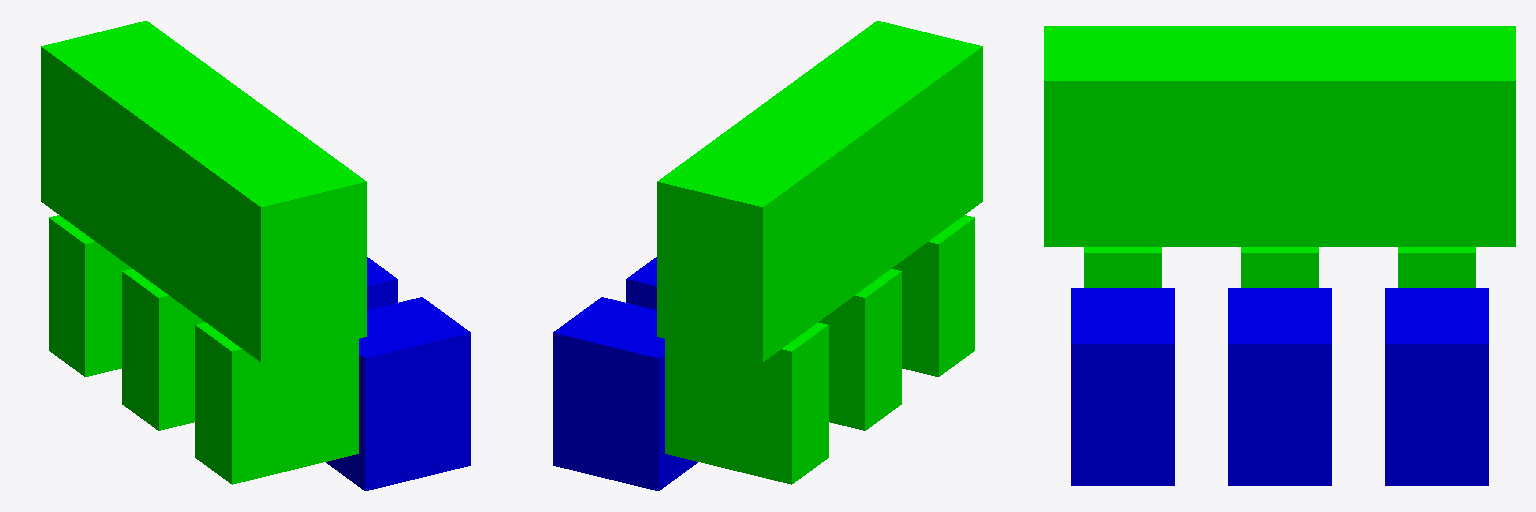
URDF robot description (robot):
<robot name = "robot">
    <link name="root">
        <inertial>
            <origin xyz="0.0 0.0 1.5" rpy="0 0 0"/>
            <mass value="1" />
            <inertia ixx="100" ixy="0" ixz="0" iyy="100" iyz="0" izz="100" />
        </inertial>
        <visual>
            <origin xyz="0.0 0.0 1.5" rpy="0 0 0"/>
            <geometry>
                <box size="0 0 0.0001" />
            </geometry>
            <material name="Green">
                <color rgba="0 1.0 0.0 1.0"/>
            </material>
        </visual>
        <collision>
            <origin xyz="0.0 0.0 1.5" rpy="0 0 0"/>
            <geometry>
                <box size="0 0 0.0001" />
            </geometry>
        </collision>
    </link>
    <joint name="root_000" type="revolute">
       <parent link="root"/>
       <child  link="000"/>
       <origin rpy="0 0 0" xyz="0.0 0.0 1.5" />
     <axis xyz="1 0 0"/>
       <limit effort="0.0" lower="-3.14159" upper="3.14159" velocity="0.0"/>
    </joint>
    <link name="000">
        <inertial>
            <origin xyz="0.0 0.3 0.0" rpy="0 0 0"/>
            <mass value="1" />
            <inertia ixx="100" ixy="0" ixz="0" iyy="100" iyz="0" izz="100" />
        </inertial>
        <visual>
            <origin xyz="0.0 0.3 0.0" rpy="0 0 0"/>
            <geometry>
                <box size="0.5 0.6 0.7" />
            </geometry>
            <material name="Green">
                <color rgba="0 1.0 0.0 1.0"/>
            </material>
        </visual>
        <collision>
            <origin xyz="0.0 0.3 0.0" rpy="0 0 0"/>
            <geometry>
                <box size="0.5 0.6 0.7" />
            </geometry>
        </collision>
    </link>
    <joint name="000_010" type="revolute">
       <parent link="000"/>
       <child  link="010"/>
       <origin rpy="0 0 0" xyz="0.0 0.6 -0.0" />
     <axis xyz="0 1 0"/>
       <limit effort="0.0" lower="-3.14159" upper="3.14159" velocity="0.0"/>
    </joint>
    <link name="010">
        <inertial>
            <origin xyz="0.0 0.3 -0.0" rpy="0 0 0"/>
            <mass value="1" />
            <inertia ixx="100" ixy="0" ixz="0" iyy="100" iyz="0" izz="100" />
        </inertial>
        <visual>
            <origin xyz="0.0 0.3 -0.0" rpy="0 0 0"/>
            <geometry>
                <box size="0.5 0.6 0.7" />
            </geometry>
            <material name="Green">
                <color rgba="0 1.0 0.0 1.0"/>
            </material>
        </visual>
        <collision>
            <origin xyz="0.0 0.3 -0.0" rpy="0 0 0"/>
            <geometry>
                <box size="0.5 0.6 0.7" />
            </geometry>
        </collision>
    </link>
    <joint name="010_020" type="revolute">
       <parent link="010"/>
       <child  link="020"/>
       <origin rpy="0 0 0" xyz="0.0 0.6 -0.0" />
     <axis xyz="0 1 0"/>
       <limit effort="0.0" lower="-3.14159" upper="3.14159" velocity="0.0"/>
    </joint>
    <link name="020">
        <inertial>
            <origin xyz="0.0 0.3 -0.0" rpy="0 0 0"/>
            <mass value="1" />
            <inertia ixx="100" ixy="0" ixz="0" iyy="100" iyz="0" izz="100" />
        </inertial>
        <visual>
            <origin xyz="0.0 0.3 -0.0" rpy="0 0 0"/>
            <geometry>
                <box size="0.5 0.6 0.7" />
            </geometry>
            <material name="Green">
                <color rgba="0 1.0 0.0 1.0"/>
            </material>
        </visual>
        <collision>
            <origin xyz="0.0 0.3 -0.0" rpy="0 0 0"/>
            <geometry>
                <box size="0.5 0.6 0.7" />
            </geometry>
        </collision>
    </link>
    <joint name="020_020-100" type="revolute">
       <parent link="020"/>
       <child  link="020-100"/>
       <origin rpy="0 0 0" xyz="0.0 0.3 -0.35" />
     <axis xyz="0 0 1"/>
       <limit effort="0.0" lower="-3.14159" upper="3.14159" velocity="0.0"/>
    </joint>
    <link name="020-100">
        <inertial>
            <origin xyz="0.0 0.0 -0.15" rpy="0 0 0"/>
            <mass value="1" />
            <inertia ixx="100" ixy="0" ixz="0" iyy="100" iyz="0" izz="100" />
        </inertial>
        <visual>
            <origin xyz="0.0 0.0 -0.15" rpy="0 0 0"/>
            <geometry>
                <box size="0.6 0.3 0.3" />
            </geometry>
            <material name="Green">
                <color rgba="0 1.0 0.0 1.0"/>
            </material>
        </visual>
        <collision>
            <origin xyz="0.0 0.0 -0.15" rpy="0 0 0"/>
            <geometry>
                <box size="0.6 0.3 0.3" />
            </geometry>
        </collision>
    </link>
    <joint name="020-100_020-110" type="revolute">
       <parent link="020-100"/>
       <child  link="020-110"/>
       <origin rpy="0 0 0" xyz="0.0 0.0 -0.3" />
     <axis xyz="0 0 1"/>
       <limit effort="0.0" lower="-3.14159" upper="3.14159" velocity="0.0"/>
    </joint>
    <link name="020-110">
        <inertial>
            <origin xyz="0.0 0.0 -0.15" rpy="0 0 0"/>
            <mass value="1" />
            <inertia ixx="100" ixy="0" ixz="0" iyy="100" iyz="0" izz="100" />
        </inertial>
        <visual>
            <origin xyz="0.0 0.0 -0.15" rpy="0 0 0"/>
            <geometry>
                <box size="0.6 0.3 0.3" />
            </geometry>
            <material name="Green">
                <color rgba="0 1.0 0.0 1.0"/>
            </material>
        </visual>
        <collision>
            <origin xyz="0.0 0.0 -0.15" rpy="0 0 0"/>
            <geometry>
                <box size="0.6 0.3 0.3" />
            </geometry>
        </collision>
    </link>
    <joint name="020-110_020-110-200" type="revolute">
       <parent link="020-110"/>
       <child  link="020-110-200"/>
       <origin rpy="0 0 0" xyz="0.3 0.0 -0.15" />
     <axis xyz="1 0 0"/>
       <limit effort="0.0" lower="-3.14159" upper="3.14159" velocity="0.0"/>
    </joint>
    <link name="020-110-200">
        <inertial>
            <origin xyz="0.25 0.0 -0.0" rpy="0 0 0"/>
            <mass value="1" />
            <inertia ixx="100" ixy="0" ixz="0" iyy="100" iyz="0" izz="100" />
        </inertial>
        <visual>
            <origin xyz="0.25 0.0 -0.0" rpy="0 0 0"/>
            <geometry>
                <box size="0.5 0.4 0.6" />
            </geometry>
            <material name="Blue">
                <color rgba="0 0.0 1.0 1.0"/>
            </material>
        </visual>
        <collision>
            <origin xyz="0.25 0.0 -0.0" rpy="0 0 0"/>
            <geometry>
                <box size="0.5 0.4 0.6" />
            </geometry>
        </collision>
    </link>
    <joint name="010_010-100" type="revolute">
       <parent link="010"/>
       <child  link="010-100"/>
       <origin rpy="0 0 0" xyz="0.0 0.3 -0.35" />
     <axis xyz="0 0 1"/>
       <limit effort="0.0" lower="-3.14159" upper="3.14159" velocity="0.0"/>
    </joint>
    <link name="010-100">
        <inertial>
            <origin xyz="0.0 0.0 -0.15" rpy="0 0 0"/>
            <mass value="1" />
            <inertia ixx="100" ixy="0" ixz="0" iyy="100" iyz="0" izz="100" />
        </inertial>
        <visual>
            <origin xyz="0.0 0.0 -0.15" rpy="0 0 0"/>
            <geometry>
                <box size="0.6 0.3 0.3" />
            </geometry>
            <material name="Green">
                <color rgba="0 1.0 0.0 1.0"/>
            </material>
        </visual>
        <collision>
            <origin xyz="0.0 0.0 -0.15" rpy="0 0 0"/>
            <geometry>
                <box size="0.6 0.3 0.3" />
            </geometry>
        </collision>
    </link>
    <joint name="010-100_010-110" type="revolute">
       <parent link="010-100"/>
       <child  link="010-110"/>
       <origin rpy="0 0 0" xyz="0.0 0.0 -0.3" />
     <axis xyz="0 0 1"/>
       <limit effort="0.0" lower="-3.14159" upper="3.14159" velocity="0.0"/>
    </joint>
    <link name="010-110">
        <inertial>
            <origin xyz="0.0 0.0 -0.15" rpy="0 0 0"/>
            <mass value="1" />
            <inertia ixx="100" ixy="0" ixz="0" iyy="100" iyz="0" izz="100" />
        </inertial>
        <visual>
            <origin xyz="0.0 0.0 -0.15" rpy="0 0 0"/>
            <geometry>
                <box size="0.6 0.3 0.3" />
            </geometry>
            <material name="Green">
                <color rgba="0 1.0 0.0 1.0"/>
            </material>
        </visual>
        <collision>
            <origin xyz="0.0 0.0 -0.15" rpy="0 0 0"/>
            <geometry>
                <box size="0.6 0.3 0.3" />
            </geometry>
        </collision>
    </link>
    <joint name="010-110_010-110-200" type="revolute">
       <parent link="010-110"/>
       <child  link="010-110-200"/>
       <origin rpy="0 0 0" xyz="0.3 0.0 -0.15" />
     <axis xyz="1 0 0"/>
       <limit effort="0.0" lower="-3.14159" upper="3.14159" velocity="0.0"/>
    </joint>
    <link name="010-110-200">
        <inertial>
            <origin xyz="0.25 0.0 -0.0" rpy="0 0 0"/>
            <mass value="1" />
            <inertia ixx="100" ixy="0" ixz="0" iyy="100" iyz="0" izz="100" />
        </inertial>
        <visual>
            <origin xyz="0.25 0.0 -0.0" rpy="0 0 0"/>
            <geometry>
                <box size="0.5 0.4 0.6" />
            </geometry>
            <material name="Blue">
                <color rgba="0 0.0 1.0 1.0"/>
            </material>
        </visual>
        <collision>
            <origin xyz="0.25 0.0 -0.0" rpy="0 0 0"/>
            <geometry>
                <box size="0.5 0.4 0.6" />
            </geometry>
        </collision>
    </link>
    <joint name="000_000-100" type="revolute">
       <parent link="000"/>
       <child  link="000-100"/>
       <origin rpy="0 0 0" xyz="0.0 0.3 -0.35" />
     <axis xyz="0 0 1"/>
       <limit effort="0.0" lower="-3.14159" upper="3.14159" velocity="0.0"/>
    </joint>
    <link name="000-100">
        <inertial>
            <origin xyz="0.0 0.0 -0.15" rpy="0 0 0"/>
            <mass value="1" />
            <inertia ixx="100" ixy="0" ixz="0" iyy="100" iyz="0" izz="100" />
        </inertial>
        <visual>
            <origin xyz="0.0 0.0 -0.15" rpy="0 0 0"/>
            <geometry>
                <box size="0.6 0.3 0.3" />
            </geometry>
            <material name="Green">
                <color rgba="0 1.0 0.0 1.0"/>
            </material>
        </visual>
        <collision>
            <origin xyz="0.0 0.0 -0.15" rpy="0 0 0"/>
            <geometry>
                <box size="0.6 0.3 0.3" />
            </geometry>
        </collision>
    </link>
    <joint name="000-100_000-110" type="revolute">
       <parent link="000-100"/>
       <child  link="000-110"/>
       <origin rpy="0 0 0" xyz="0.0 0.0 -0.3" />
     <axis xyz="0 0 1"/>
       <limit effort="0.0" lower="-3.14159" upper="3.14159" velocity="0.0"/>
    </joint>
    <link name="000-110">
        <inertial>
            <origin xyz="0.0 0.0 -0.15" rpy="0 0 0"/>
            <mass value="1" />
            <inertia ixx="100" ixy="0" ixz="0" iyy="100" iyz="0" izz="100" />
        </inertial>
        <visual>
            <origin xyz="0.0 0.0 -0.15" rpy="0 0 0"/>
            <geometry>
                <box size="0.6 0.3 0.3" />
            </geometry>
            <material name="Green">
                <color rgba="0 1.0 0.0 1.0"/>
            </material>
        </visual>
        <collision>
            <origin xyz="0.0 0.0 -0.15" rpy="0 0 0"/>
            <geometry>
                <box size="0.6 0.3 0.3" />
            </geometry>
        </collision>
    </link>
    <joint name="000-110_000-110-200" type="revolute">
       <parent link="000-110"/>
       <child  link="000-110-200"/>
       <origin rpy="0 0 0" xyz="0.3 0.0 -0.15" />
     <axis xyz="1 0 0"/>
       <limit effort="0.0" lower="-3.14159" upper="3.14159" velocity="0.0"/>
    </joint>
    <link name="000-110-200">
        <inertial>
            <origin xyz="0.25 0.0 -0.0" rpy="0 0 0"/>
            <mass value="1" />
            <inertia ixx="100" ixy="0" ixz="0" iyy="100" iyz="0" izz="100" />
        </inertial>
        <visual>
            <origin xyz="0.25 0.0 -0.0" rpy="0 0 0"/>
            <geometry>
                <box size="0.5 0.4 0.6" />
            </geometry>
            <material name="Blue">
                <color rgba="0 0.0 1.0 1.0"/>
            </material>
        </visual>
        <collision>
            <origin xyz="0.25 0.0 -0.0" rpy="0 0 0"/>
            <geometry>
                <box size="0.5 0.4 0.6" />
            </geometry>
        </collision>
    </link>
</robot>

--- What the picture shows (computed from the rendered views, not written in the file) ---
3 views of the same robot in one strip: view 1: azimuth 30°, elevation 25°; view 2: azimuth 150°, elevation 25°; view 3: azimuth 270°, elevation 25° (orthographic).
Robot: robot — 13 links, 12 joints (12 revolute); root link root; default pose: all joints at 0.
Links seen in each view (by area): view 1: 000, [phone redacted] (×2), 010, 020, 000-110, 000-100, 010-100, 020-100, 020-110, 010-110; view 2: 020, [phone redacted] (×2), 010, 000, 020-110, 020-100, 010-100, 000-100, 010-110, 000-110; view 3: [phone redacted] (×3), 010, 000, 020, 020-100, 010-100, 000-100.
Link boxes in pixels (bbox=[...]): 000: bbox=[188, 128, 366, 362]; [phone redacted] (×2): bbox=[326, 257, 470, 490]; 010: bbox=[114, 74, 292, 308]; 020: bbox=[41, 21, 218, 254]; 000-110: bbox=[195, 387, 358, 484]; 000-100: bbox=[195, 322, 358, 417]; 010-100: bbox=[122, 269, 204, 363]; 020-100: bbox=[49, 215, 131, 310]; 020-110: bbox=[49, 285, 121, 376]; 010-110: bbox=[122, 338, 194, 430]; 020: bbox=[657, 128, 835, 362]; [phone redacted] (×2): bbox=[553, 257, 697, 490]; 010: bbox=[731, 74, 909, 308]; 000: bbox=[805, 21, 982, 254]; 020-110: bbox=[665, 387, 828, 484]; 020-100: bbox=[665, 322, 828, 417]; 010-100: bbox=[819, 269, 901, 363]; 000-100: bbox=[892, 215, 974, 310]; 010-110: bbox=[829, 338, 901, 430]; 000-110: bbox=[902, 285, 974, 376]; [phone redacted] (×3): bbox=[1071, 288, 1488, 485]; 010: bbox=[1201, 26, 1358, 246]; 000: bbox=[1044, 26, 1200, 246]; 020: bbox=[1359, 26, 1515, 246]; 020-100: bbox=[1398, 247, 1475, 287]; 010-100: bbox=[1241, 247, 1318, 287]; 000-100: bbox=[1084, 247, 1161, 287].
Size in the robot's own frame: 1.1 by 1.8 by 1.45 metres.
Geometry: primitives only (box / cylinder / sphere), no mesh files.
